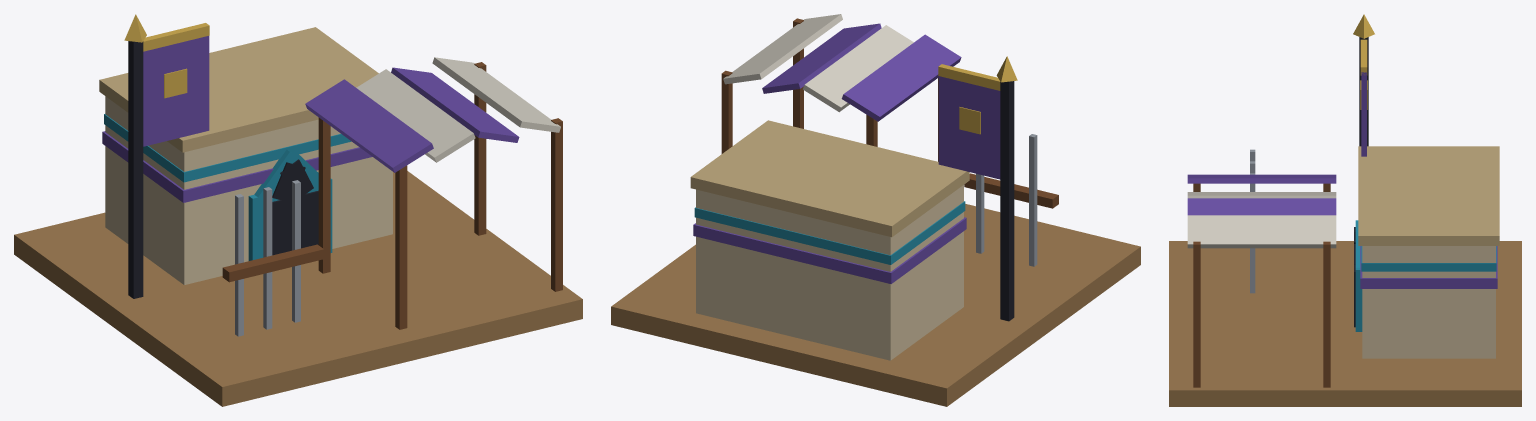
Rendered from camp_sniper_t1.glb.
The picture shows the model from 3 angles, left to right: view 1: azimuth 30°, elevation 25°; view 2: azimuth 150°, elevation 25°; view 3: azimuth 270°, elevation 25°; orthographic projection. The views are drawn at different scales.
Visible parts, largest first — view 1: body; view 2: body; view 3: body.
Boxes of the visible parts, box(x1,y1,x2,y2) form: body: box(14, 14, 582, 406); body: box(611, 14, 1140, 406); body: box(1169, 14, 1521, 406).
Size of the model in its own units: 1.9 by 1.52 by 1.9.
